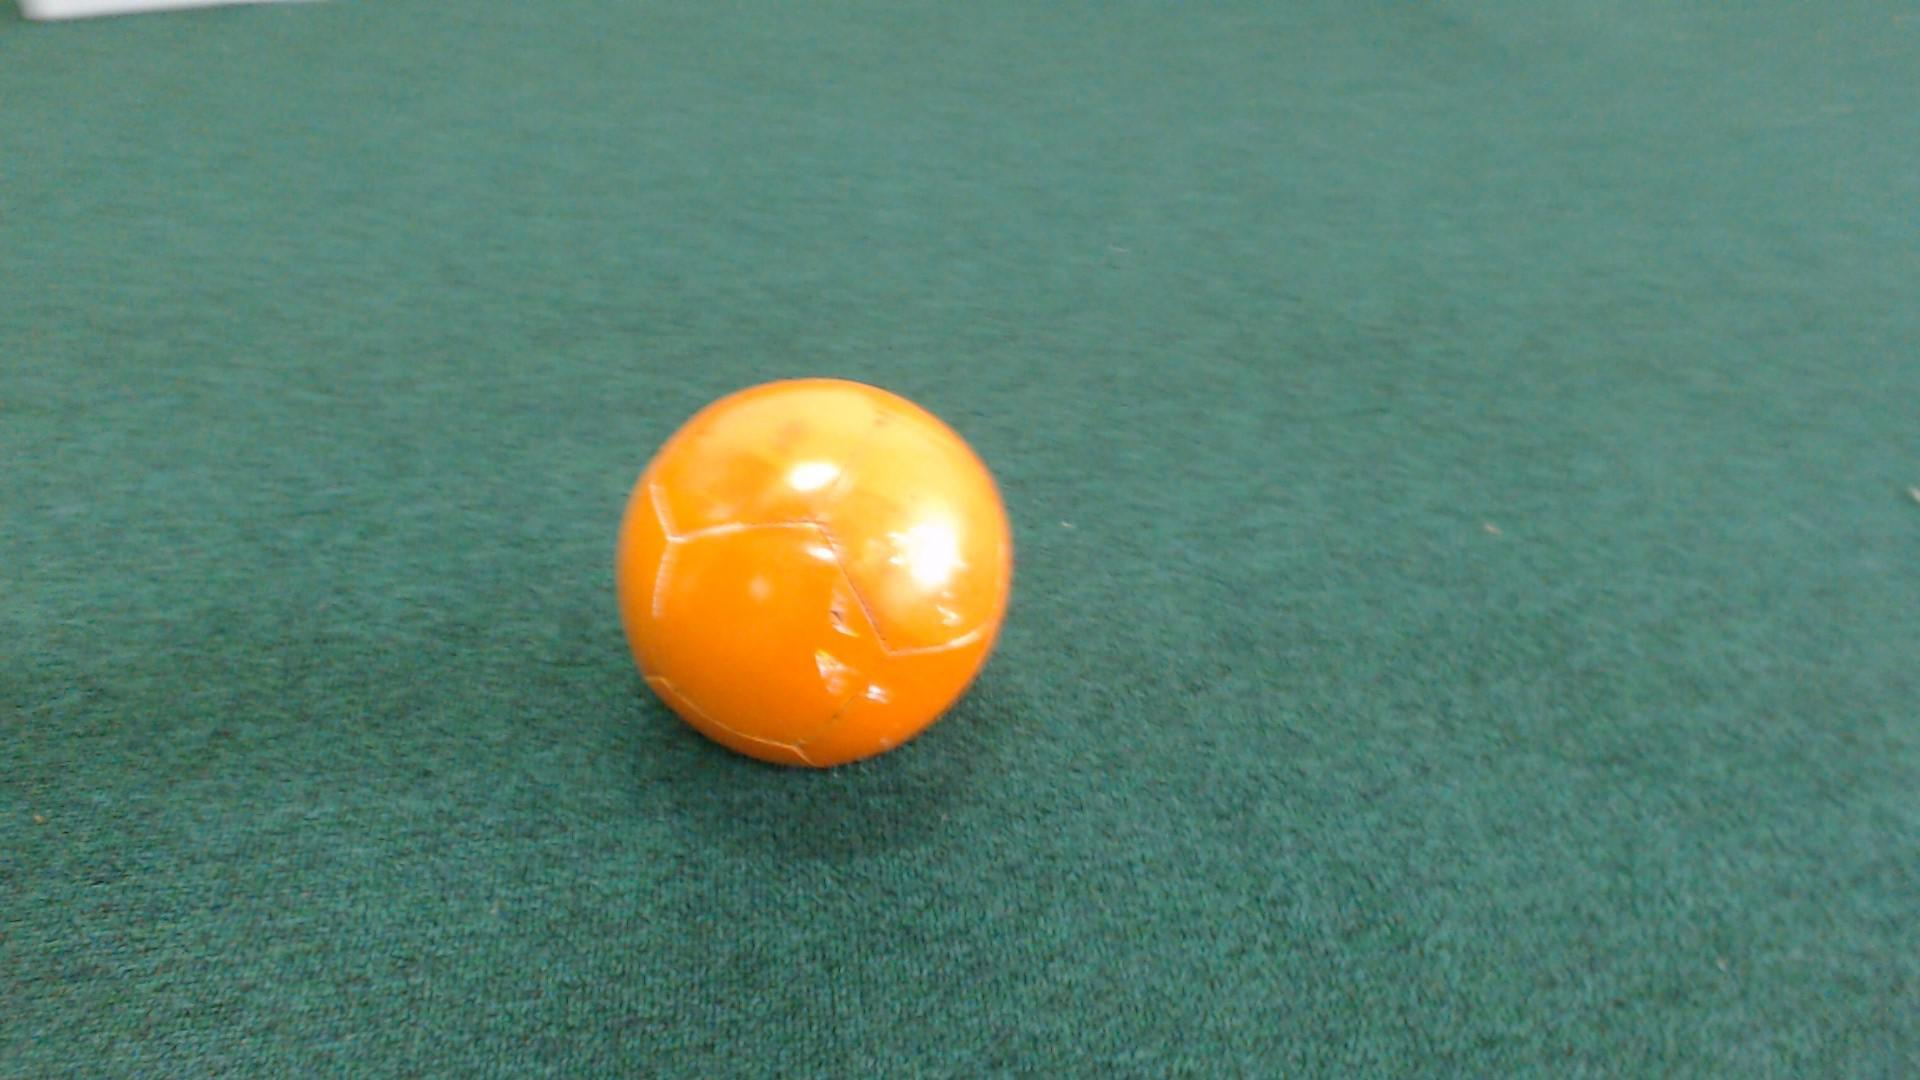bola: (575, 352, 1036, 785)
